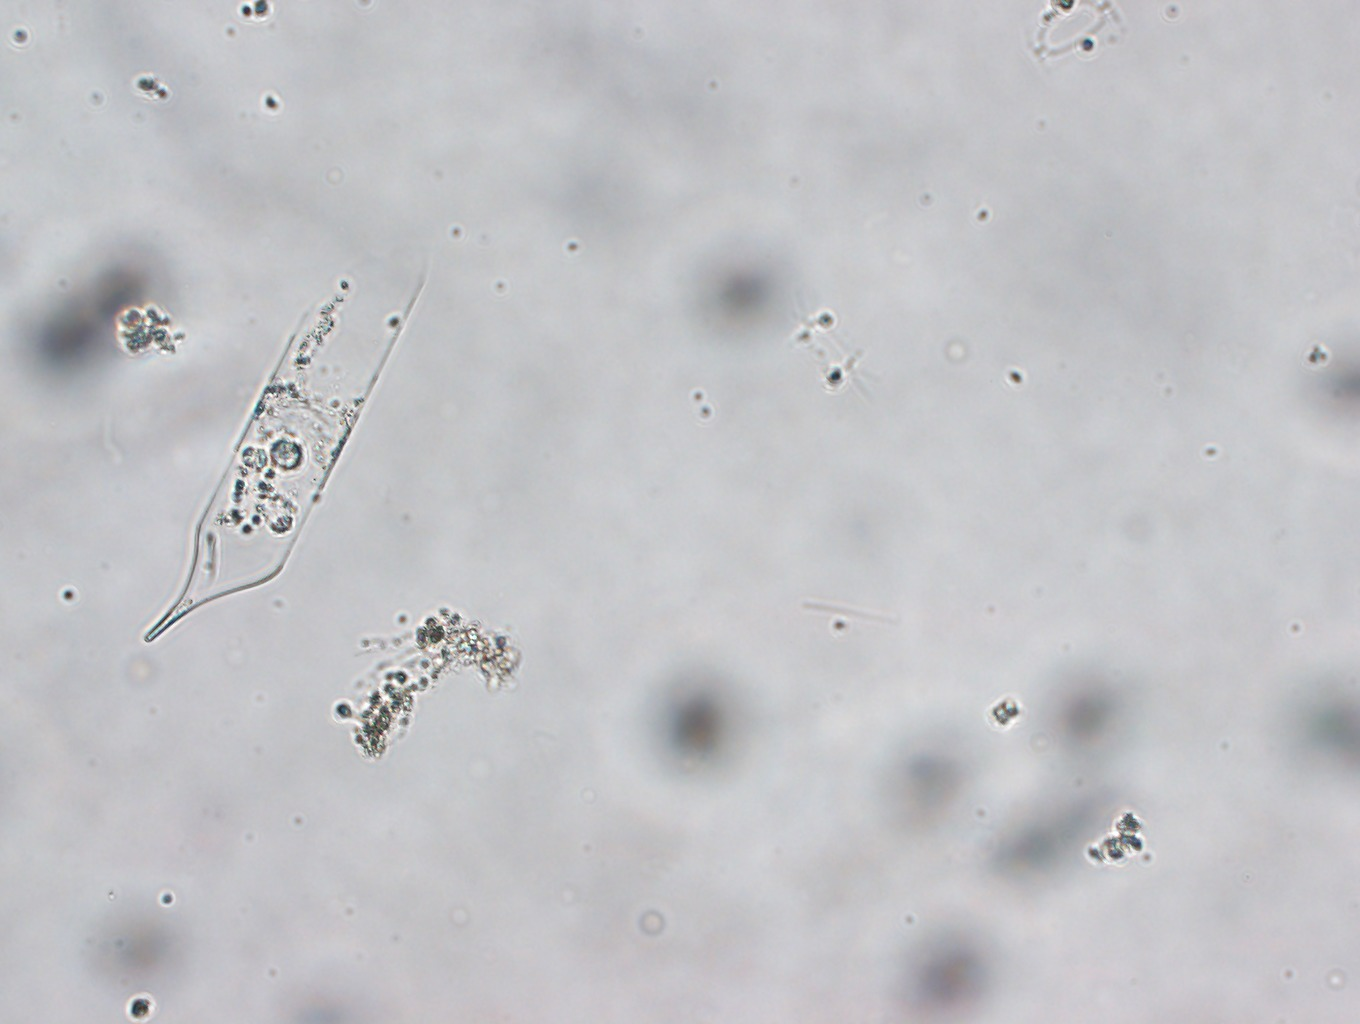biddulphia: (145, 234, 431, 642)
